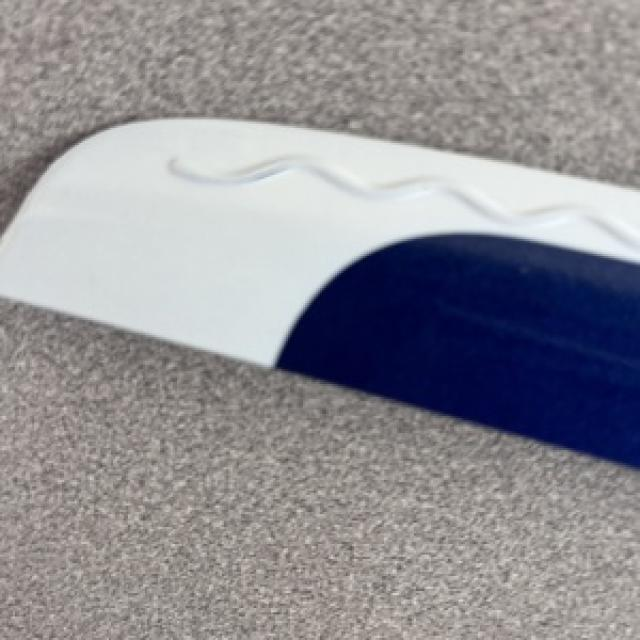healthy: (0, 119, 638, 465)
